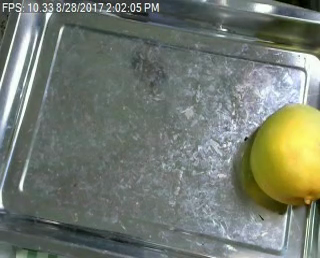Mango: (249, 100, 320, 203)
